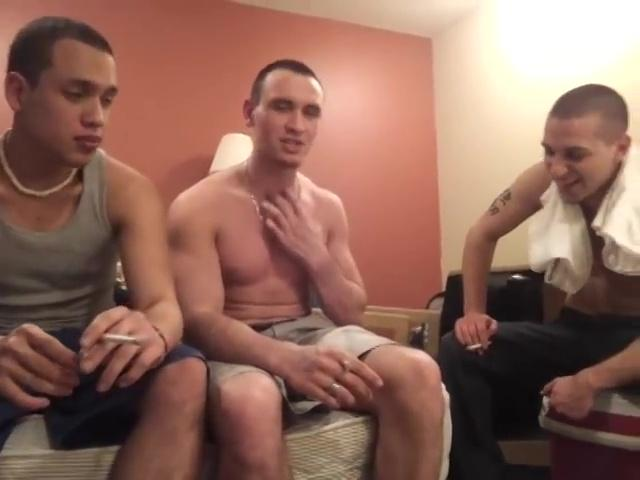cigarette: (96, 332, 144, 347), (461, 341, 492, 352), (340, 356, 354, 376)
